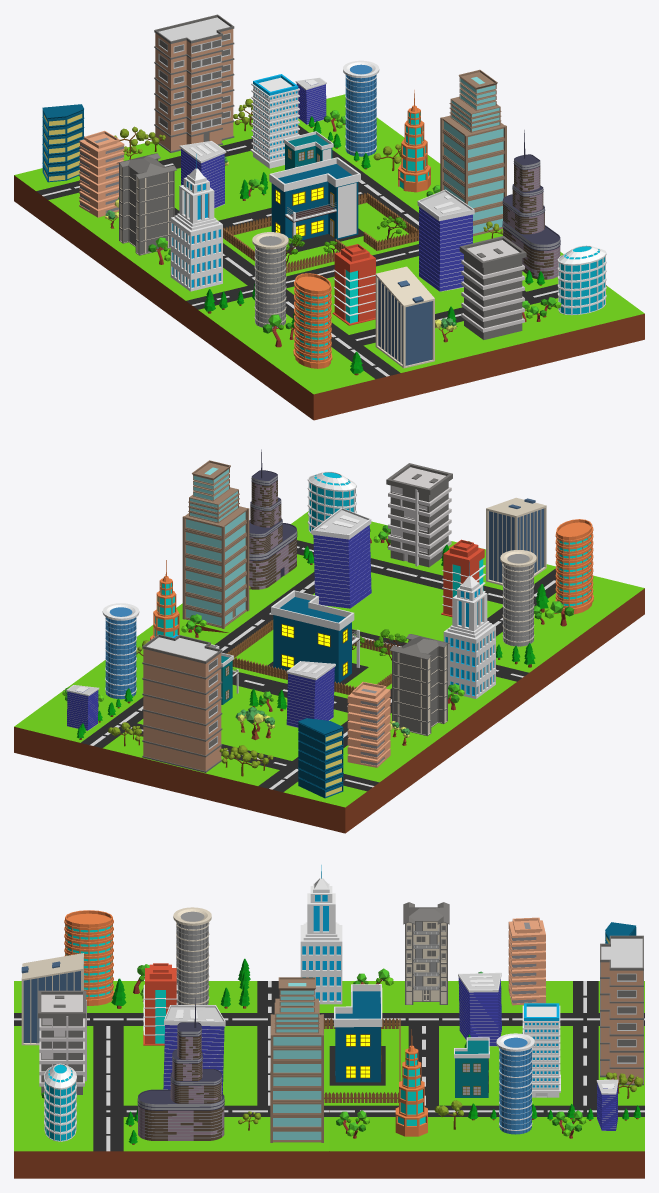
The model's file is город блендер.fbx.
3 views of the same model, one above another, from view 1: azimuth 30°, elevation 25°; view 2: azimuth 150°, elevation 25°; view 3: azimuth 270°, elevation 25° (orthographic). The views are drawn at different scales.
Visible parts, largest first — view 1: Floor, Building17, Building8, Building21, Building11, Building12, Building1, Building2, Building9, Building16, Building19, Building13 (+13 smaller); view 2: Floor, Building17, Building8, Building11, Building21, Building16, Building2, Building1, Building9, Building12, Building3, Building4 (+13 smaller); view 3: Floor, Building8, Building9, Building17, Building21, Building2, Building1, Building11, Building13, Building6, Building14, Building3 (+13 smaller).
Boxes of the visible parts, x1,y1,x2,y2 form: Floor: [14, 94, 644, 420]; Building17: [154, 14, 234, 152]; Building8: [440, 69, 506, 236]; Building21: [269, 157, 360, 249]; Building11: [459, 236, 526, 339]; Building12: [375, 266, 434, 368]; Building1: [170, 154, 222, 291]; Building2: [117, 153, 176, 255]; Building9: [502, 130, 560, 279]; Building16: [417, 189, 474, 291]; Building19: [250, 74, 299, 168]; Building13: [293, 273, 332, 368]; Floor: [14, 511, 644, 833]; Building17: [142, 634, 222, 772]; Building8: [182, 460, 249, 628]; Building11: [386, 463, 452, 567]; Building21: [271, 590, 359, 682]; Building16: [312, 507, 371, 608]; Building2: [389, 634, 450, 736]; Building1: [443, 562, 495, 698]; Building9: [249, 449, 297, 589]; Building12: [486, 497, 546, 585]; Building3: [347, 682, 390, 767]; Building4: [298, 718, 343, 798]; Floor: [14, 981, 644, 1178]; Building8: [270, 977, 323, 1142]; Building9: [137, 997, 224, 1140]; Building17: [600, 935, 643, 1085]; Building21: [334, 984, 382, 1082]; Building2: [403, 902, 449, 1004]; Building1: [300, 865, 342, 1004]; Building11: [38, 990, 86, 1094]; Building13: [64, 910, 114, 1005]; Building6: [496, 1033, 534, 1134]; Building14: [173, 907, 211, 1004]; Building3: [508, 917, 545, 1005].
Bounding box in the file's own units: 13866 × 6810 × 21722.
